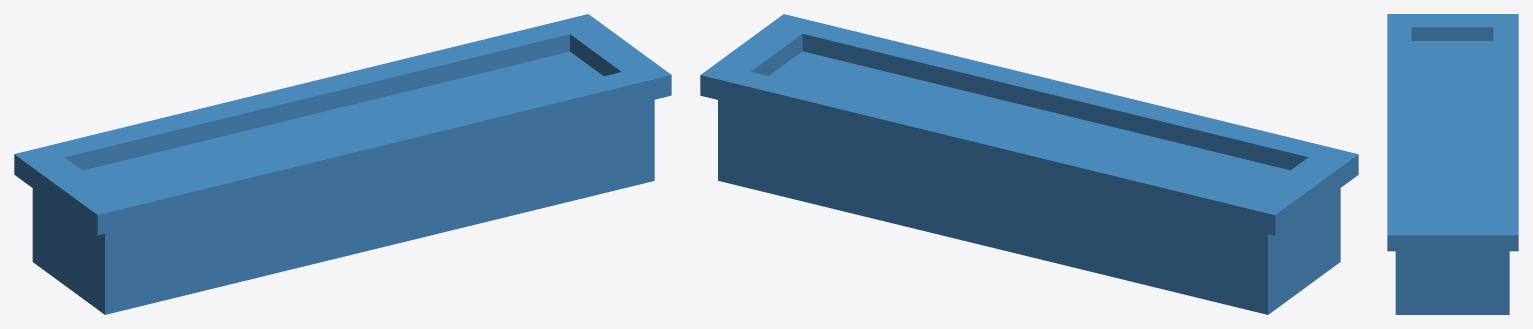
Rendered from Deco_Planter_A.fbx.
3 views of the same model, side by side, from view 1: azimuth 30°, elevation 25°; view 2: azimuth 150°, elevation 25°; view 3: azimuth 270°, elevation 25° (orthographic). The views are drawn at different scales.
Parts seen in each view (by area): view 1: Deco_Planter_A; view 2: Deco_Planter_A; view 3: Deco_Planter_A.
Part boxes in pixels (x1,y1,x2,y2): Deco_Planter_A: [14, 14, 671, 314]; Deco_Planter_A: [700, 14, 1358, 314]; Deco_Planter_A: [1387, 14, 1518, 314].
Size of the model in its own units: 450 by 80.04 by 113.
